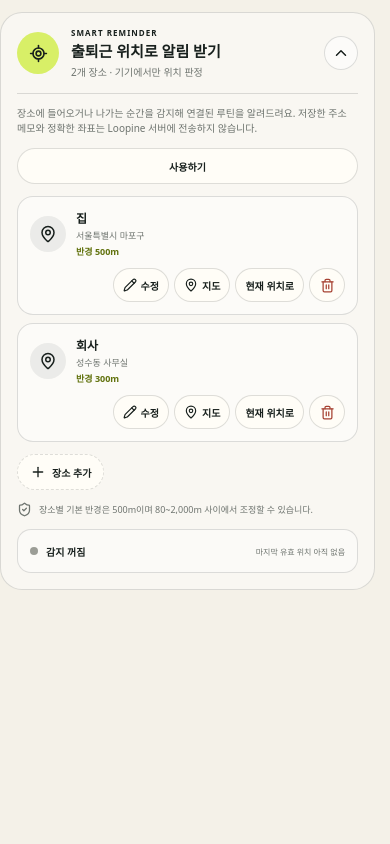
Test: SmartLocationSettings accordion, edit popup, and delete confirmation popup › opens delete confirmation popup on delete click, allows cancel
Check: the text "집" is shown, box top-left (76, 210), bottom-right (87, 227)
Click the button named "집 삭제": (327, 285) top-left (309, 268), bottom-right (345, 302)
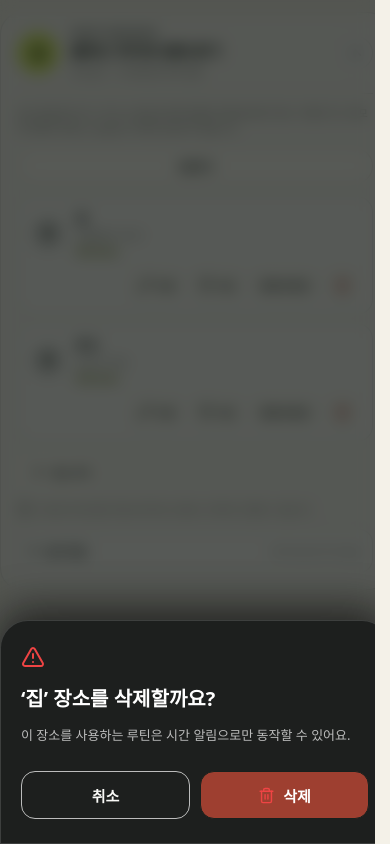
Check: the heading "‘집’ 장소를 삭제할까요?" is shown, box top-left (21, 685), bottom-right (215, 712)
Check: the text "이 장소를 사용하는 루틴은 시간 알림으로만 동작할 수 있어요." is shown, box top-left (21, 726), bottom-right (369, 745)
Click cancel
Click the button "취소": (106, 795) top-left (21, 771), bottom-right (190, 819)
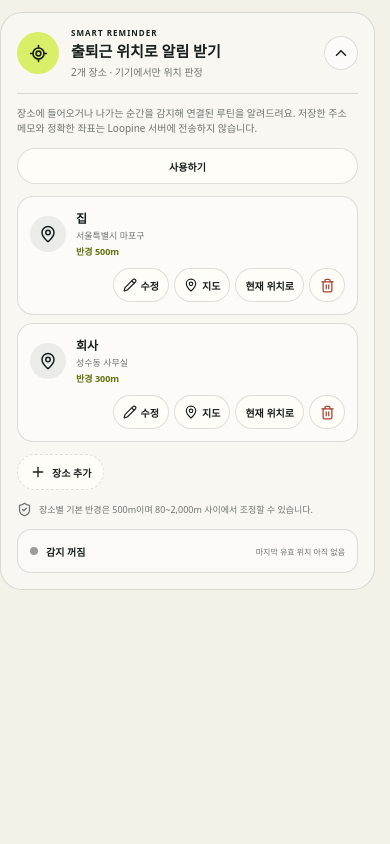
Check: the text "집" is shown, box top-left (76, 210), bottom-right (87, 227)
Check: the heading "‘집’ 장소를 삭제할까요?" is gone
